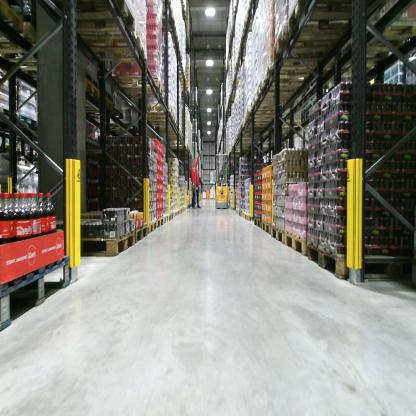pallet: (1, 253, 74, 329), (288, 1, 364, 35), (274, 24, 331, 68), (77, 29, 149, 63), (71, 3, 139, 39), (351, 21, 413, 60), (263, 53, 331, 88), (303, 239, 350, 278), (80, 230, 135, 259), (0, 45, 46, 73), (111, 75, 164, 97), (255, 78, 299, 101), (251, 93, 300, 112), (282, 230, 307, 259), (78, 94, 113, 112), (83, 77, 102, 104), (140, 105, 174, 119), (146, 114, 177, 127), (270, 222, 285, 244), (134, 222, 148, 245), (19, 111, 39, 127), (1, 104, 18, 120), (159, 129, 185, 138), (261, 218, 272, 235), (148, 219, 158, 234), (0, 141, 13, 151), (253, 216, 261, 230), (10, 145, 24, 153), (26, 150, 41, 157), (162, 214, 170, 226), (245, 211, 252, 221), (240, 209, 246, 218), (171, 210, 177, 219), (159, 217, 164, 226), (175, 209, 180, 218), (235, 207, 240, 215), (169, 211, 173, 221), (239, 210, 242, 217)
pallet_truck: (212, 154, 232, 210)
